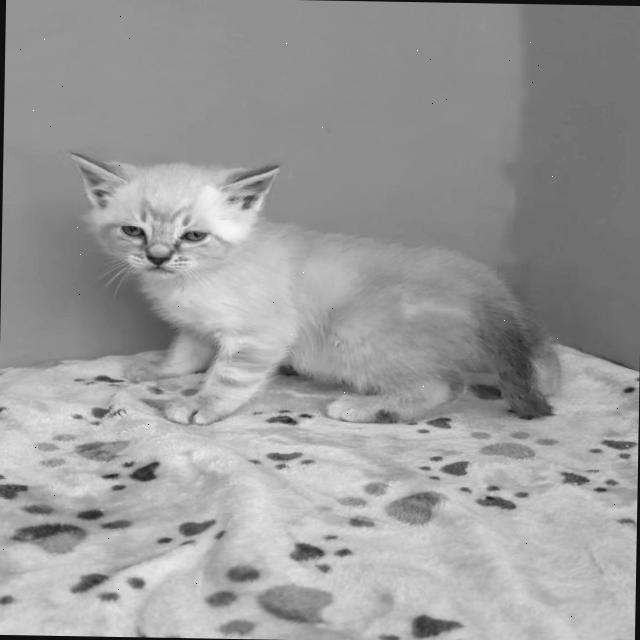siamese_cat: (60, 135, 285, 298)
